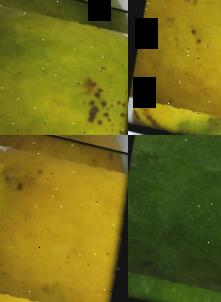PartiallyRipe: (0, 0, 128, 135)
Ripe: (0, 135, 128, 302), (128, 0, 221, 135)
Unripe: (128, 135, 221, 302)
